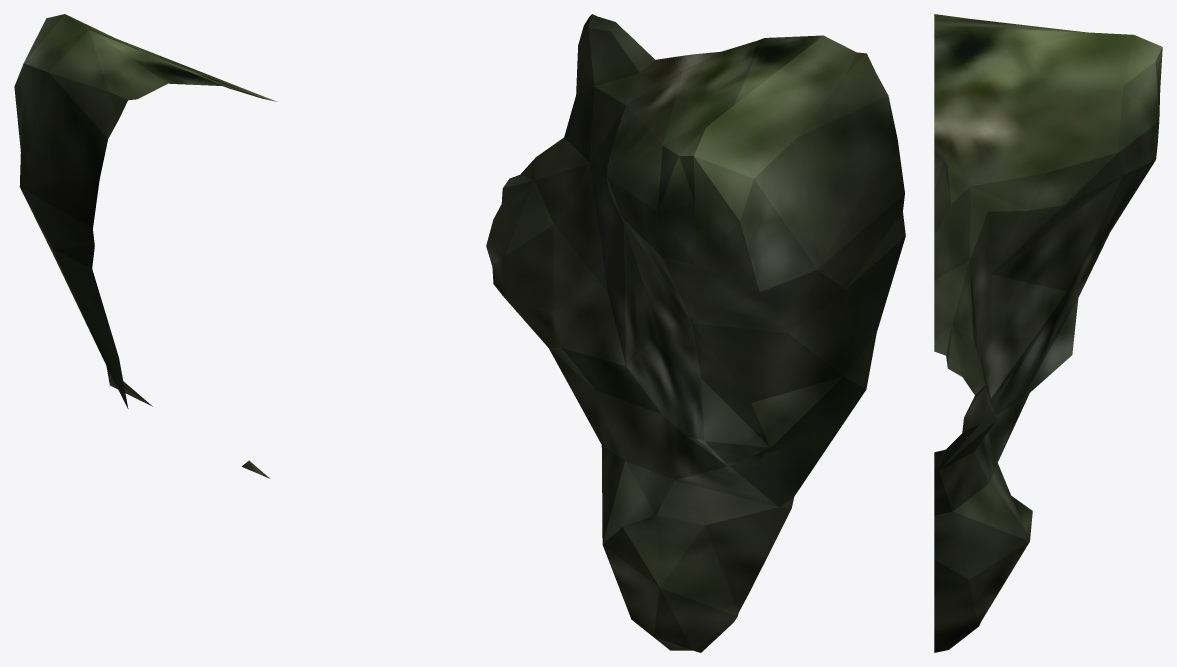
The picture shows the model from 3 angles, left to right: view 1: azimuth 30°, elevation 25°; view 2: azimuth 150°, elevation 25°; view 3: azimuth 270°, elevation 25°; orthographic projection. The views are drawn at different scales.
Bounding box in the file's own units: 0.4111 × 0.6416 × 0.2352.
Materials: 1 (1 with a texture image).
